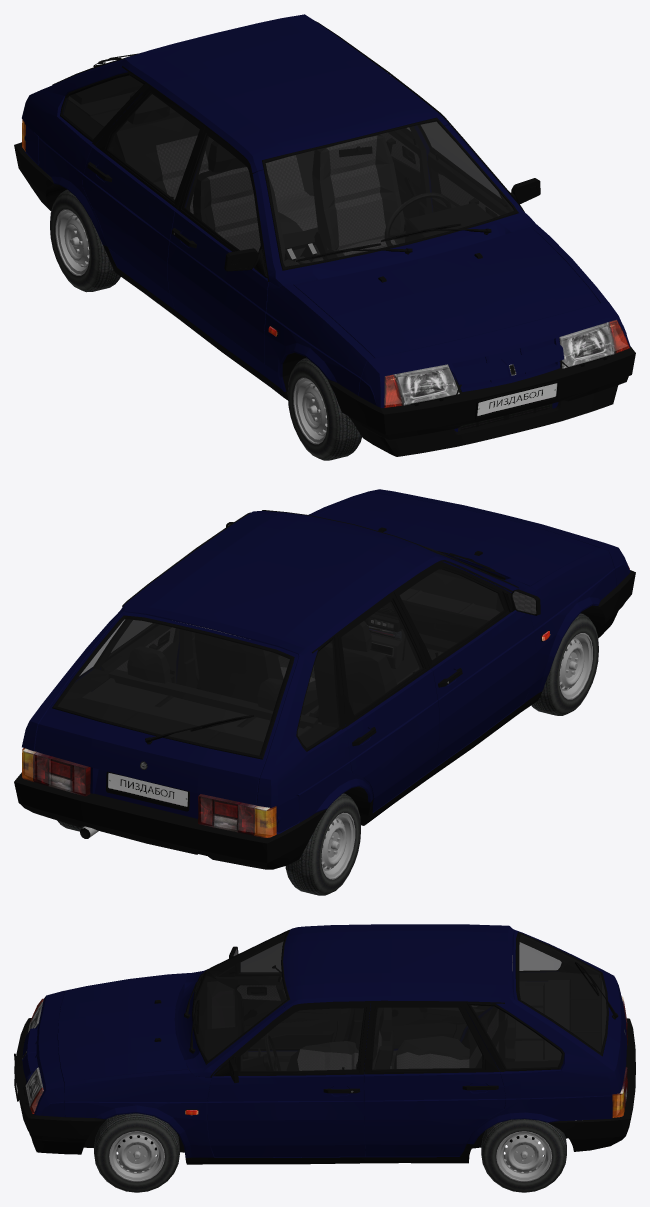
3 views of the same model, one above another, from view 1: azimuth 30°, elevation 25°; view 2: azimuth 150°, elevation 25°; view 3: azimuth 270°, elevation 25° (orthographic). The views are drawn at different scales.
Visible parts, largest first — view 1: body, windscre01, seats_ok, diffuser_0, bumberF_0, fenderF_0, door_rf_ok, door_rr_ok, door_gla03, door_gla02, wheel_rf_d, headligh01 (+9 smaller); view 2: body, glass_ok, boot_ok, seats_ok, door_rf_ok, diffuser_0, bumberR_0, door_rr_ok, interior_o, fenderF_0, dashscreen, door_gla03 (+9 smaller); view 3: body, door_lf_ok, door_lr_ok, diffuser_0, fenderF_0, windscre01, interior_o, seats_ok, door_gla01, glass_ok, door_glass, wheel_lf_d (+12 smaller).
Part boxes in pixels (x1=…): body: x1=22, y1=14, x2=561, y2=400; windscre01: x1=63, y1=75, x2=513, y2=266; seats_ok: x1=113, y1=90, x2=405, y2=266; diffuser_0: x1=293, y1=226, x2=599, y2=358; bumberF_0: x1=327, y1=346, x2=635, y2=456; fenderF_0: x1=264, y1=224, x2=630, y2=407; door_rf_ok: x1=167, y1=127, x2=268, y2=377; door_rr_ok: x1=82, y1=86, x2=204, y2=308; door_gla03: x1=109, y1=93, x2=199, y2=200; door_gla02: x1=185, y1=136, x2=260, y2=252; wheel_rf_d: x1=287, y1=357, x2=361, y2=460; headligh01: x1=384, y1=319, x2=629, y2=407; body: x1=22, y1=510, x2=595, y2=834; glass_ok: x1=58, y1=619, x2=289, y2=755; boot_ok: x1=34, y1=612, x2=298, y2=805; seats_ok: x1=109, y1=621, x2=396, y2=728; door_rf_ok: x1=394, y1=562, x2=540, y2=769; diffuser_0: x1=316, y1=493, x2=600, y2=586; bumberR_0: x1=14, y1=772, x2=326, y2=869; door_rr_ok: x1=337, y1=592, x2=439, y2=812; interior_o: x1=58, y1=620, x2=442, y2=755; fenderF_0: x1=308, y1=489, x2=630, y2=702; dashscreen: x1=305, y1=569, x2=503, y2=724; door_gla03: x1=341, y1=601, x2=422, y2=714; body: x1=84, y1=924, x2=621, y2=1163; door_lf_ok: x1=207, y1=1002, x2=370, y2=1157; door_lr_ok: x1=364, y1=1002, x2=505, y2=1156; diffuser_0: x1=57, y1=975, x2=188, y2=1082; fenderF_0: x1=34, y1=973, x2=213, y2=1157; windscre01: x1=193, y1=933, x2=561, y2=1068; interior_o: x1=207, y1=933, x2=606, y2=1070; seats_ok: x1=287, y1=1007, x2=515, y2=1070; door_gla01: x1=372, y1=1007, x2=482, y2=1069; glass_ok: x1=519, y1=935, x2=606, y2=1052; door_glass: x1=240, y1=1008, x2=364, y2=1070; wheel_lf_d: x1=94, y1=1113, x2=179, y2=1192.
Bounding box in the file's own units: 2.46 × 5.17 × 1.76.
Materials: 18 (10 with a texture image).
